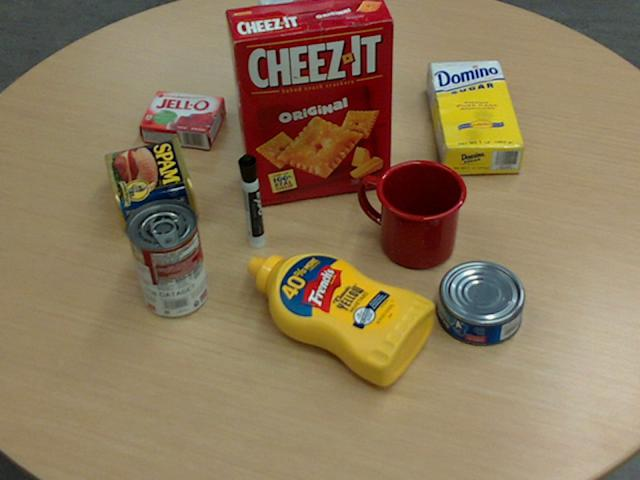cracker_box: (225, 0, 394, 205)
gelatin_box: (136, 89, 224, 148)
large_marker: (237, 154, 265, 249)
master_chef_can: (258, 0, 345, 125)
mug: (359, 158, 467, 268)
mustard_bottle: (246, 253, 434, 385)
potted_meat_can: (105, 134, 198, 229)
sugar_box: (426, 60, 525, 175)
tomato_soup_can: (123, 197, 206, 316)
tuna_fish_can: (437, 260, 526, 345)
